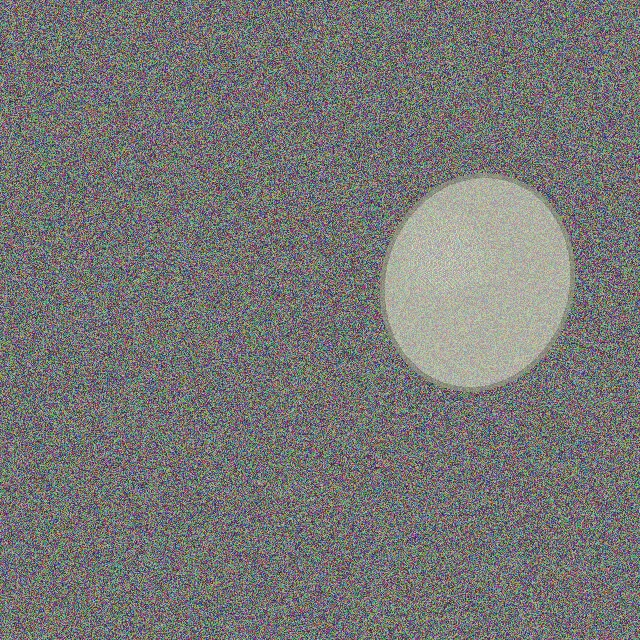lens: (382, 175, 572, 389)
